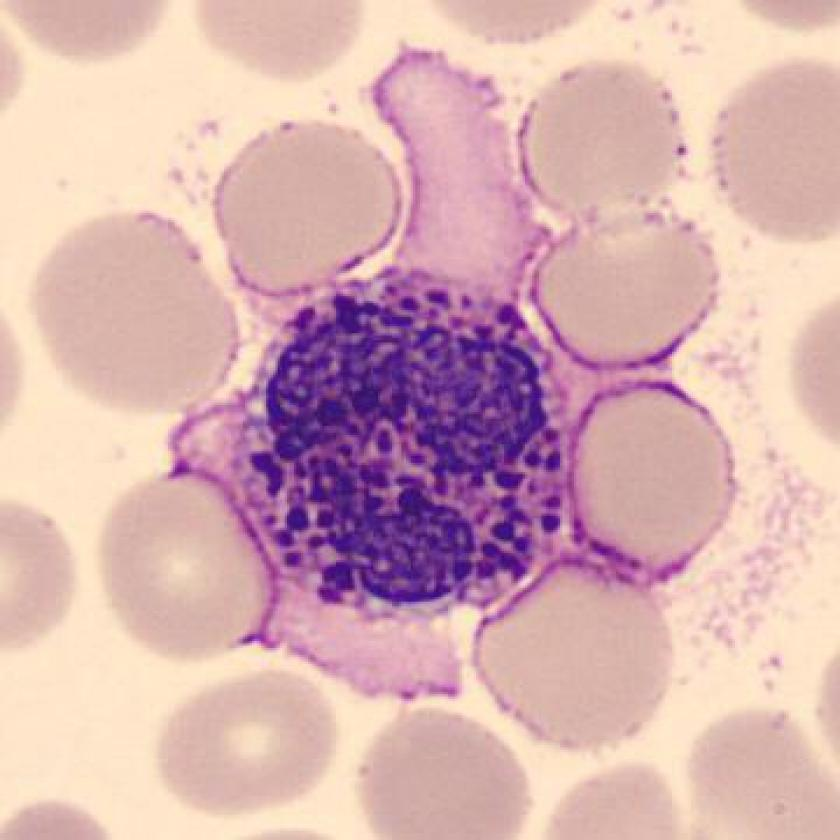basophil: (246, 274, 594, 619)
